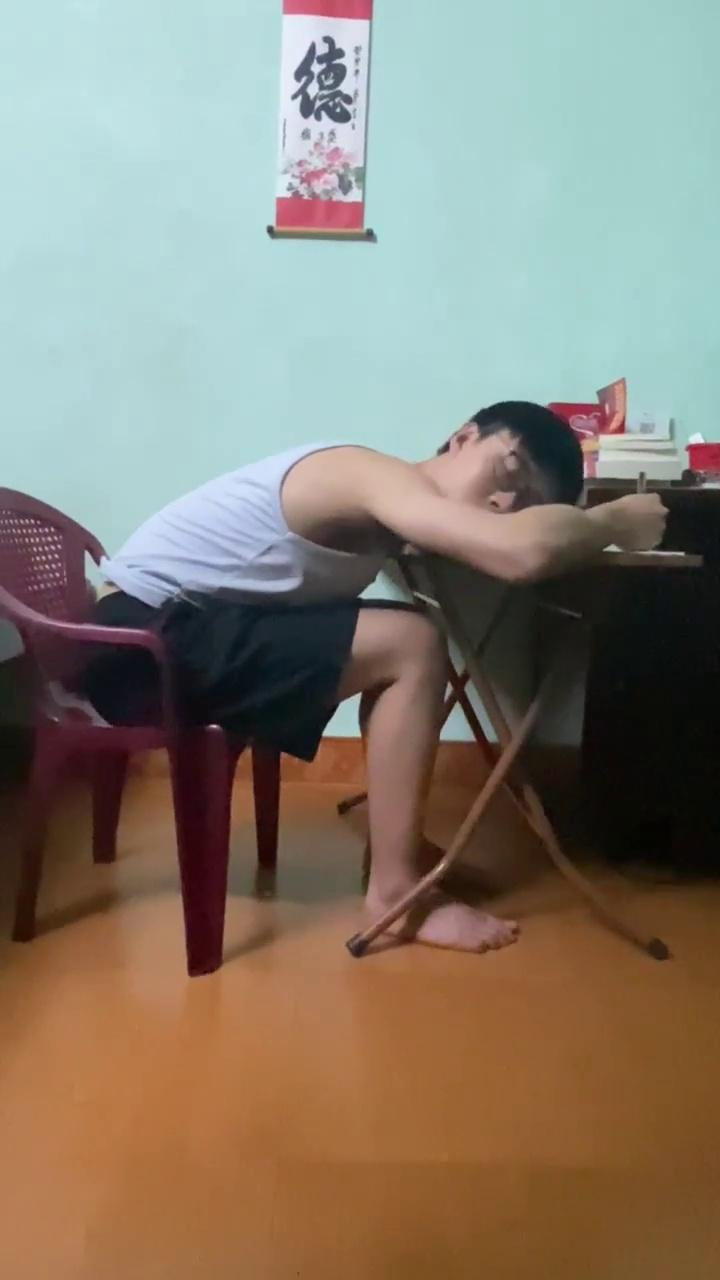BadPosture: (96, 401, 666, 920)
